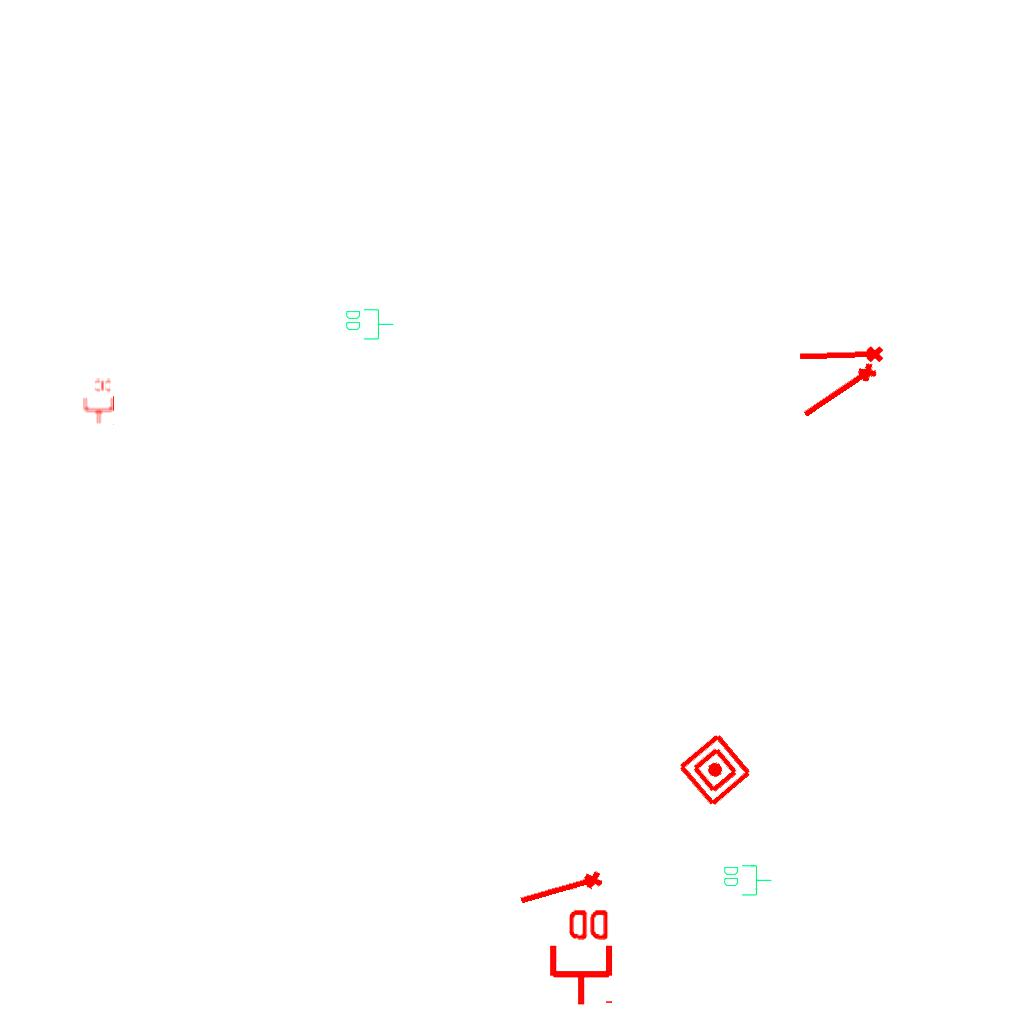ASR_Ansaugoeffnung: (797, 358, 883, 427), (515, 867, 607, 914), (796, 343, 886, 370)
Datenanschluss_zweifach: (545, 905, 614, 1008), (81, 376, 115, 427), (344, 307, 395, 341), (722, 863, 773, 897)
NAM-Nichtautomatischer_Melder: (675, 730, 755, 810)
